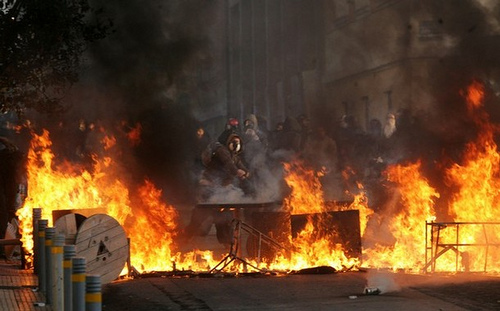fire: (21, 142, 500, 278)
